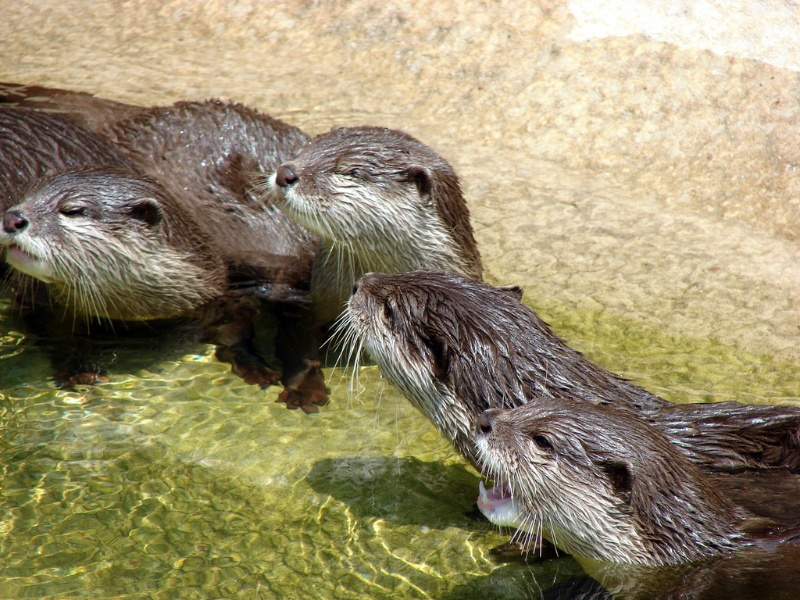minkish: (324, 261, 798, 537), (130, 87, 487, 326), (1, 94, 240, 381), (467, 403, 784, 590)
